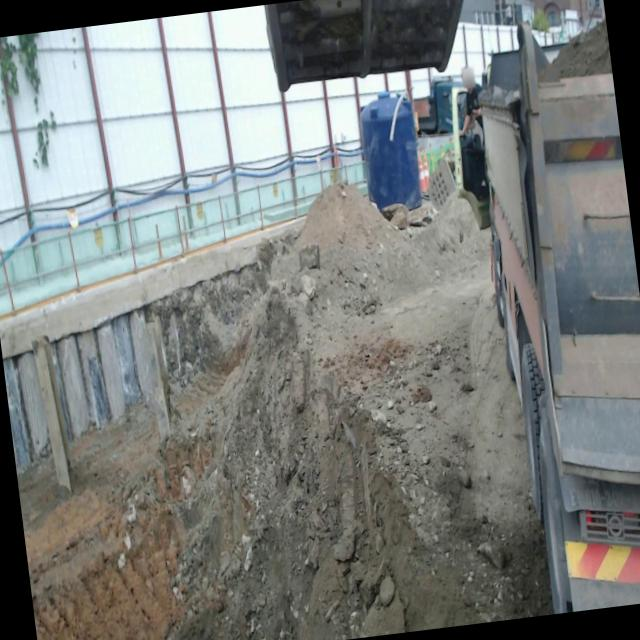cement: (0, 216, 304, 359)
red-sand: (17, 186, 552, 640)
